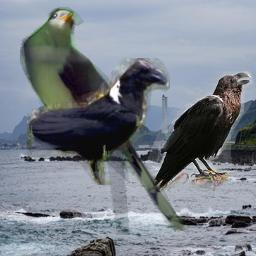Crow: (27, 58, 170, 185), (148, 71, 255, 192)
Cuckoo: (20, 7, 196, 235)
